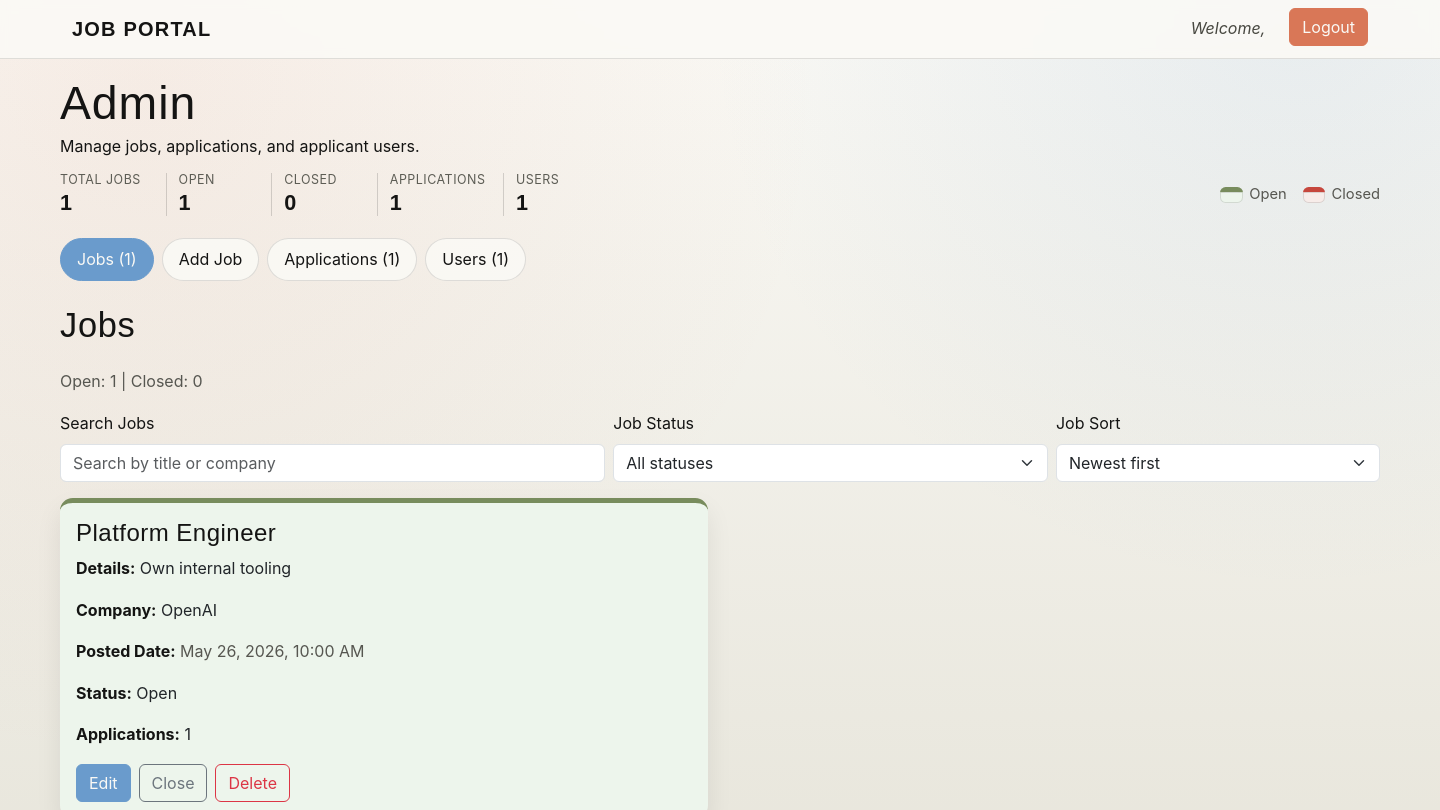
Test: AdminDashboard integration › preserves timestamps when the application status update response is partial
Click the tab "Applications (1)": (342, 260) [267,238,417,281]
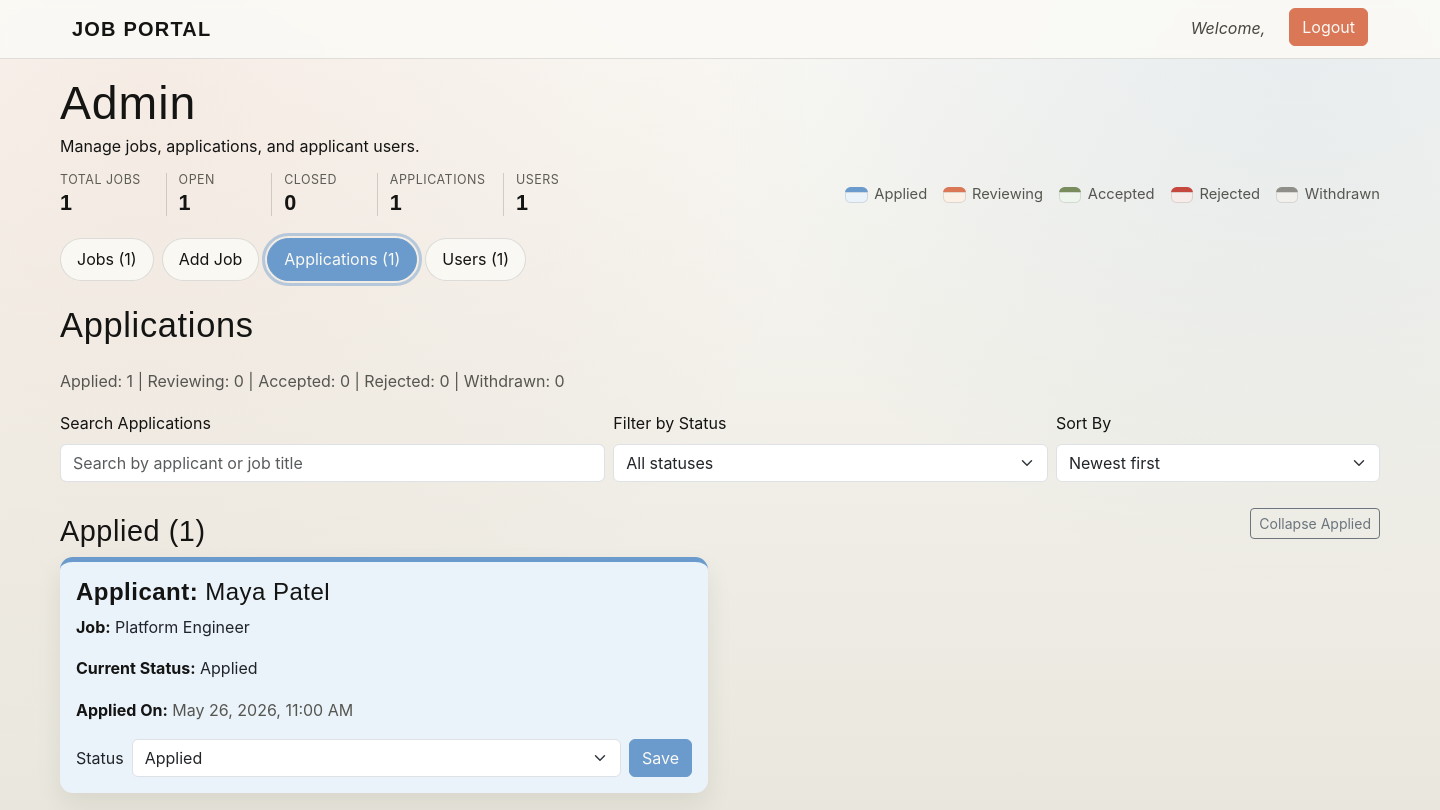
Expected: the text "Last Updated:" is not shown
Expected: the dropdown labelled "Status" is shown
Expected: the text "Applied On:" is shown, [76,700,168,720]
Select "Reviewing" in the dropdown labelled "Status": (376, 758) [132,739,621,777]
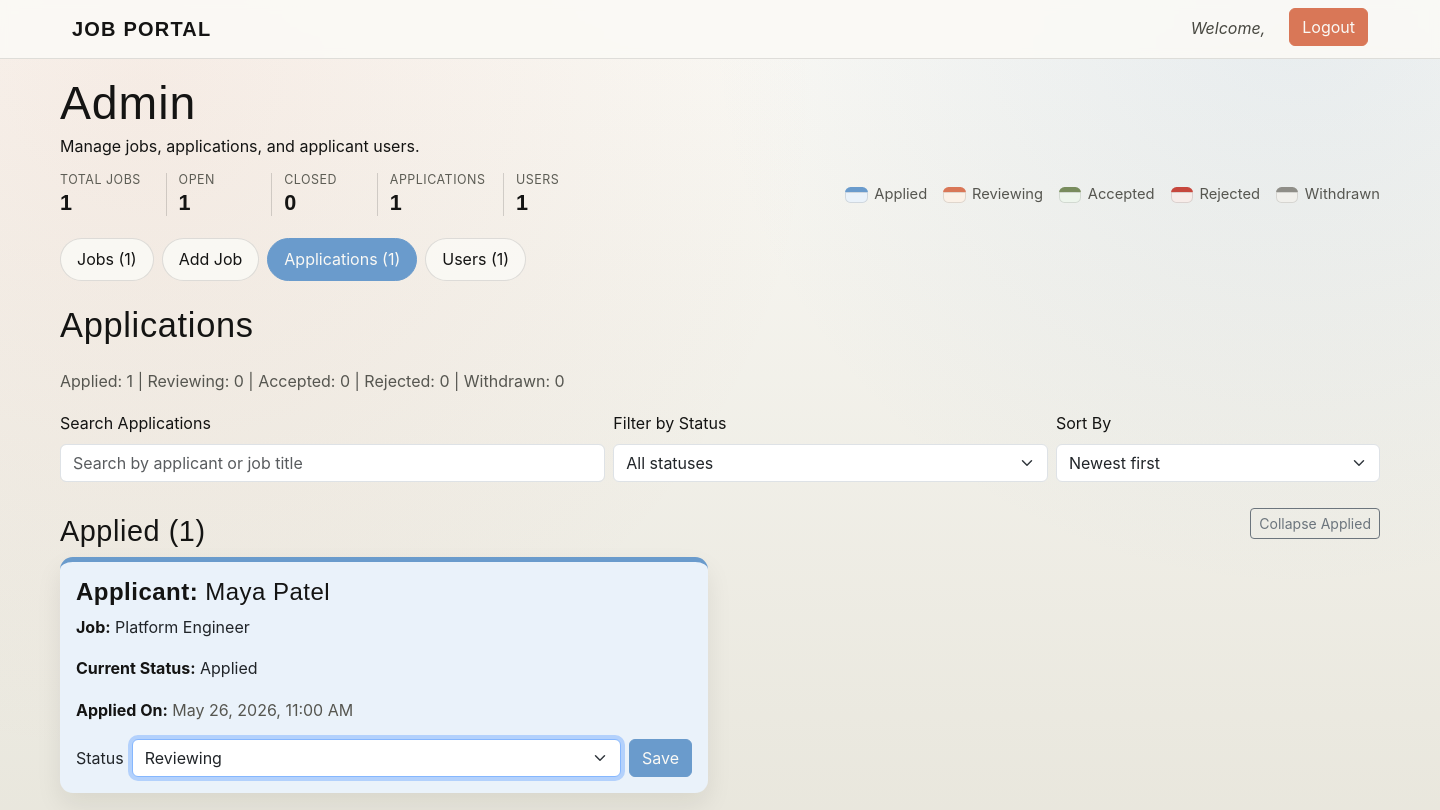
Click the button "Save": (660, 758) [629,739,692,777]
(page scrolled)
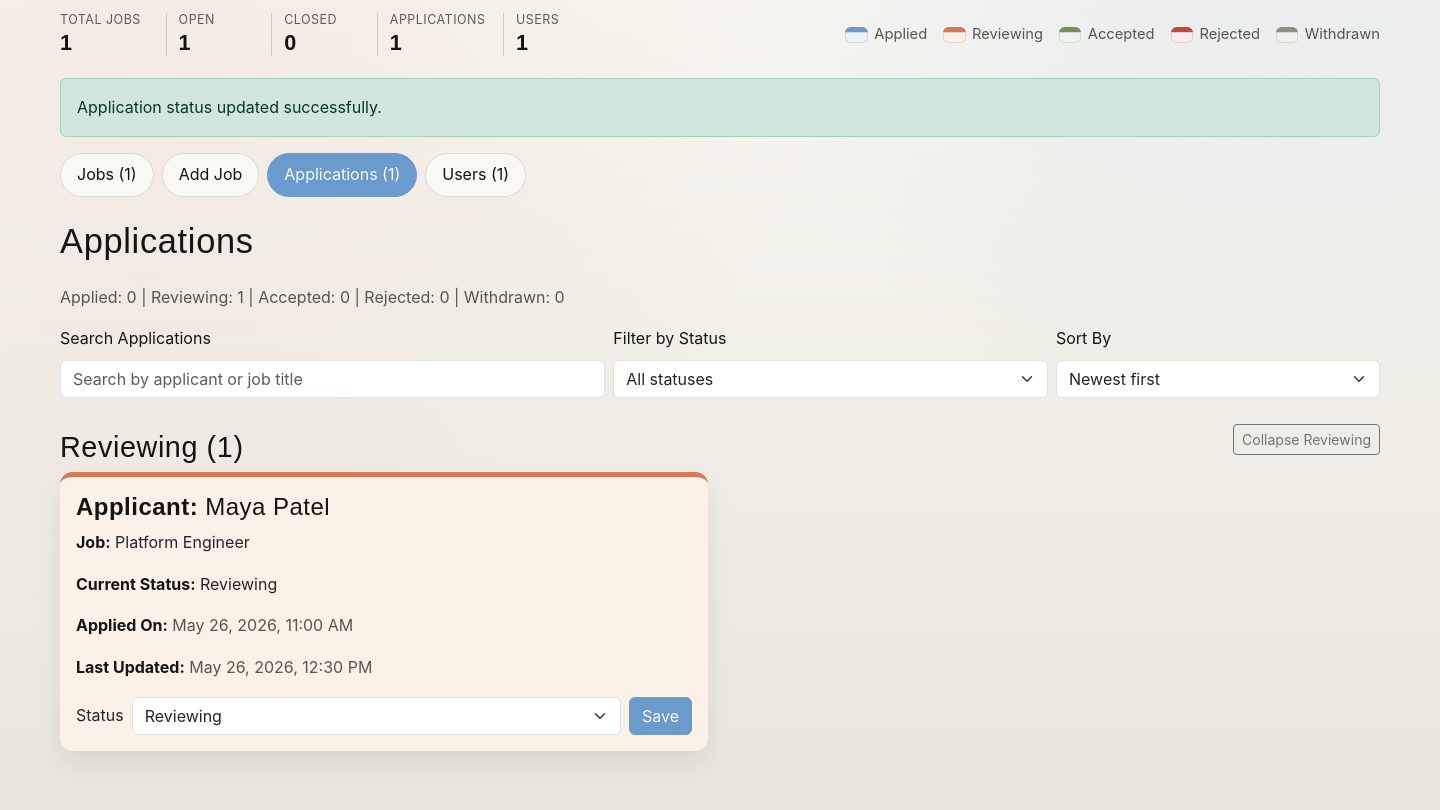
Expected: the text "Applied On:" is shown, [76,615,168,635]
Expected: the text "Application status updated successfully." is shown, [60,78,1380,137]
Expected: the text "Last Updated:" is shown, [76,657,185,677]
